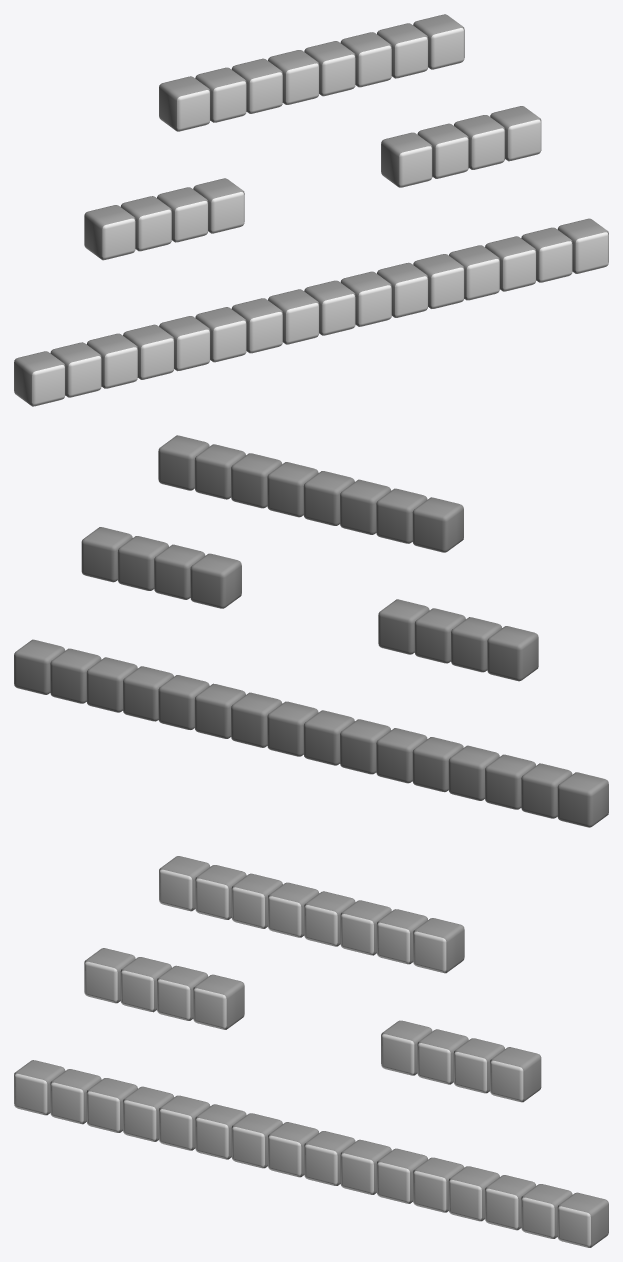
Rendered from Mountain level Blocks.FBX.
3 views of the same model, one above another, from view 1: azimuth 30°, elevation 25°; view 2: azimuth 150°, elevation 25°; view 3: azimuth 330°, elevation 25° (orthographic).
Parts seen in each view (by area): view 1: Object1094, Object1078, Object1093, Object1114, Object1113, Object1091, Object1092, Object1101, Object1104, Object1107, Object1083, Object1084 (+20 smaller); view 2: Object1094, Object1078, Object1114, Object1093, Object1092, Object1110, Object1101, Object1102, Object1107, Object1079, Object1080, Object1085 (+20 smaller); view 3: Object1109, Object1092, Object1096, Object1085, Object1082, Object1094, Object1102, Object1103, Object1114, Object1081, Object1083, Object1097 (+20 smaller).
Part boxes in pixels (x1,y1,x2,y2): Object1094: (381, 132, 432, 187); Object1078: (159, 76, 210, 131); Object1093: (84, 205, 135, 260); Object1114: (14, 351, 65, 406); Object1113: (50, 342, 101, 397); Object1091: (120, 196, 171, 251); Object1092: (193, 178, 244, 233); Object1101: (304, 280, 355, 335); Object1104: (340, 271, 391, 326); Object1107: (521, 227, 572, 282); Object1083: (340, 32, 391, 87); Object1084: (377, 23, 428, 78); Object1094: (190, 553, 241, 608); Object1078: (412, 497, 463, 552); Object1114: (557, 772, 608, 827); Object1093: (487, 626, 538, 681); Object1092: (378, 599, 429, 654); Object1110: (86, 657, 137, 712); Object1101: (267, 701, 318, 756); Object1102: (376, 728, 427, 783); Object1107: (50, 648, 101, 703); Object1079: (376, 488, 427, 543); Object1080: (340, 479, 391, 534); Object1085: (158, 435, 209, 490); Object1109: (557, 1192, 608, 1247); Object1092: (193, 974, 244, 1029); Object1096: (490, 1047, 541, 1102); Object1085: (413, 918, 464, 973); Object1082: (304, 891, 355, 946); Object1094: (381, 1020, 432, 1075); Object1102: (195, 1104, 246, 1159); Object1103: (268, 1122, 318, 1177); Object1114: (14, 1060, 65, 1115); Object1081: (268, 882, 319, 937); Object1083: (340, 900, 391, 955); Object1097: (417, 1029, 468, 1084).
Size of the model in its own units: 325 by 148 by 19.06.
Materials: 1 (1 with a texture image).
